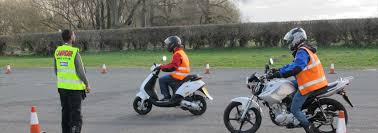helmet: (269, 26, 322, 58), (158, 35, 190, 56)
